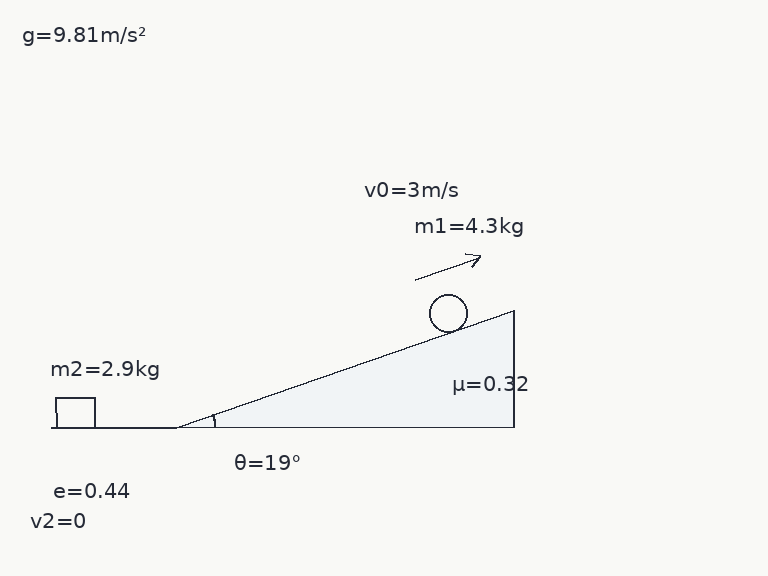ball: (427, 292, 469, 334)
block: (53, 396, 97, 429)
ramp: (173, 308, 516, 429)
